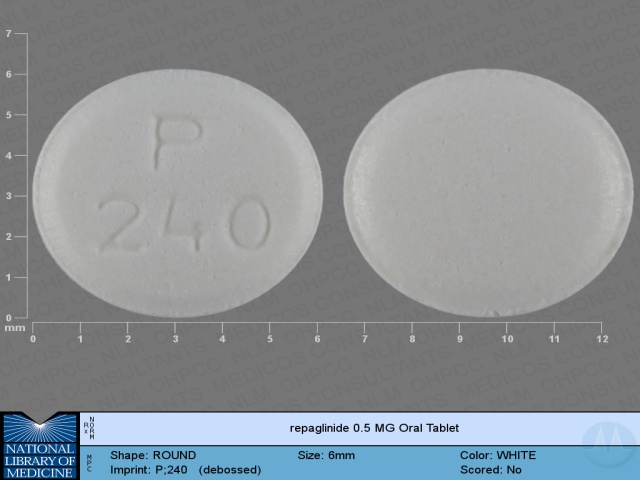0: (225, 196, 275, 253)
2: (92, 193, 152, 260)
4: (157, 190, 211, 255)
P: (143, 108, 214, 180)
